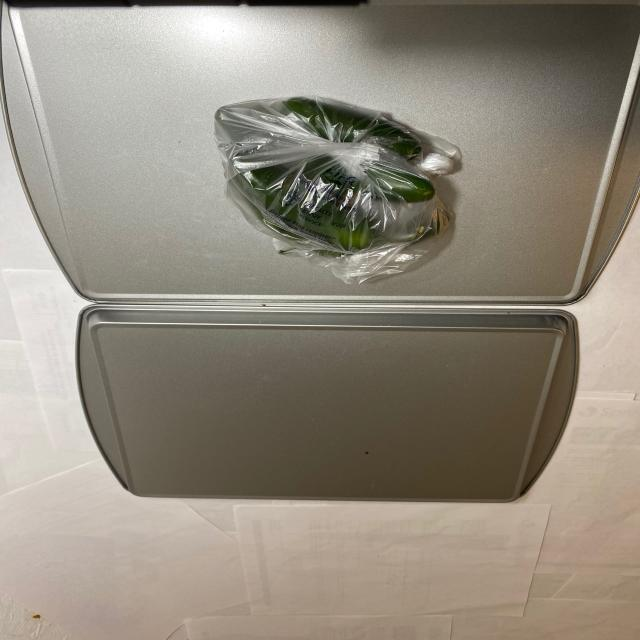chilli: (233, 96, 447, 262)
